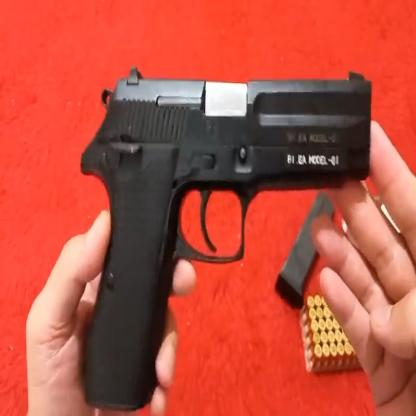handgun: (71, 59, 382, 402)
